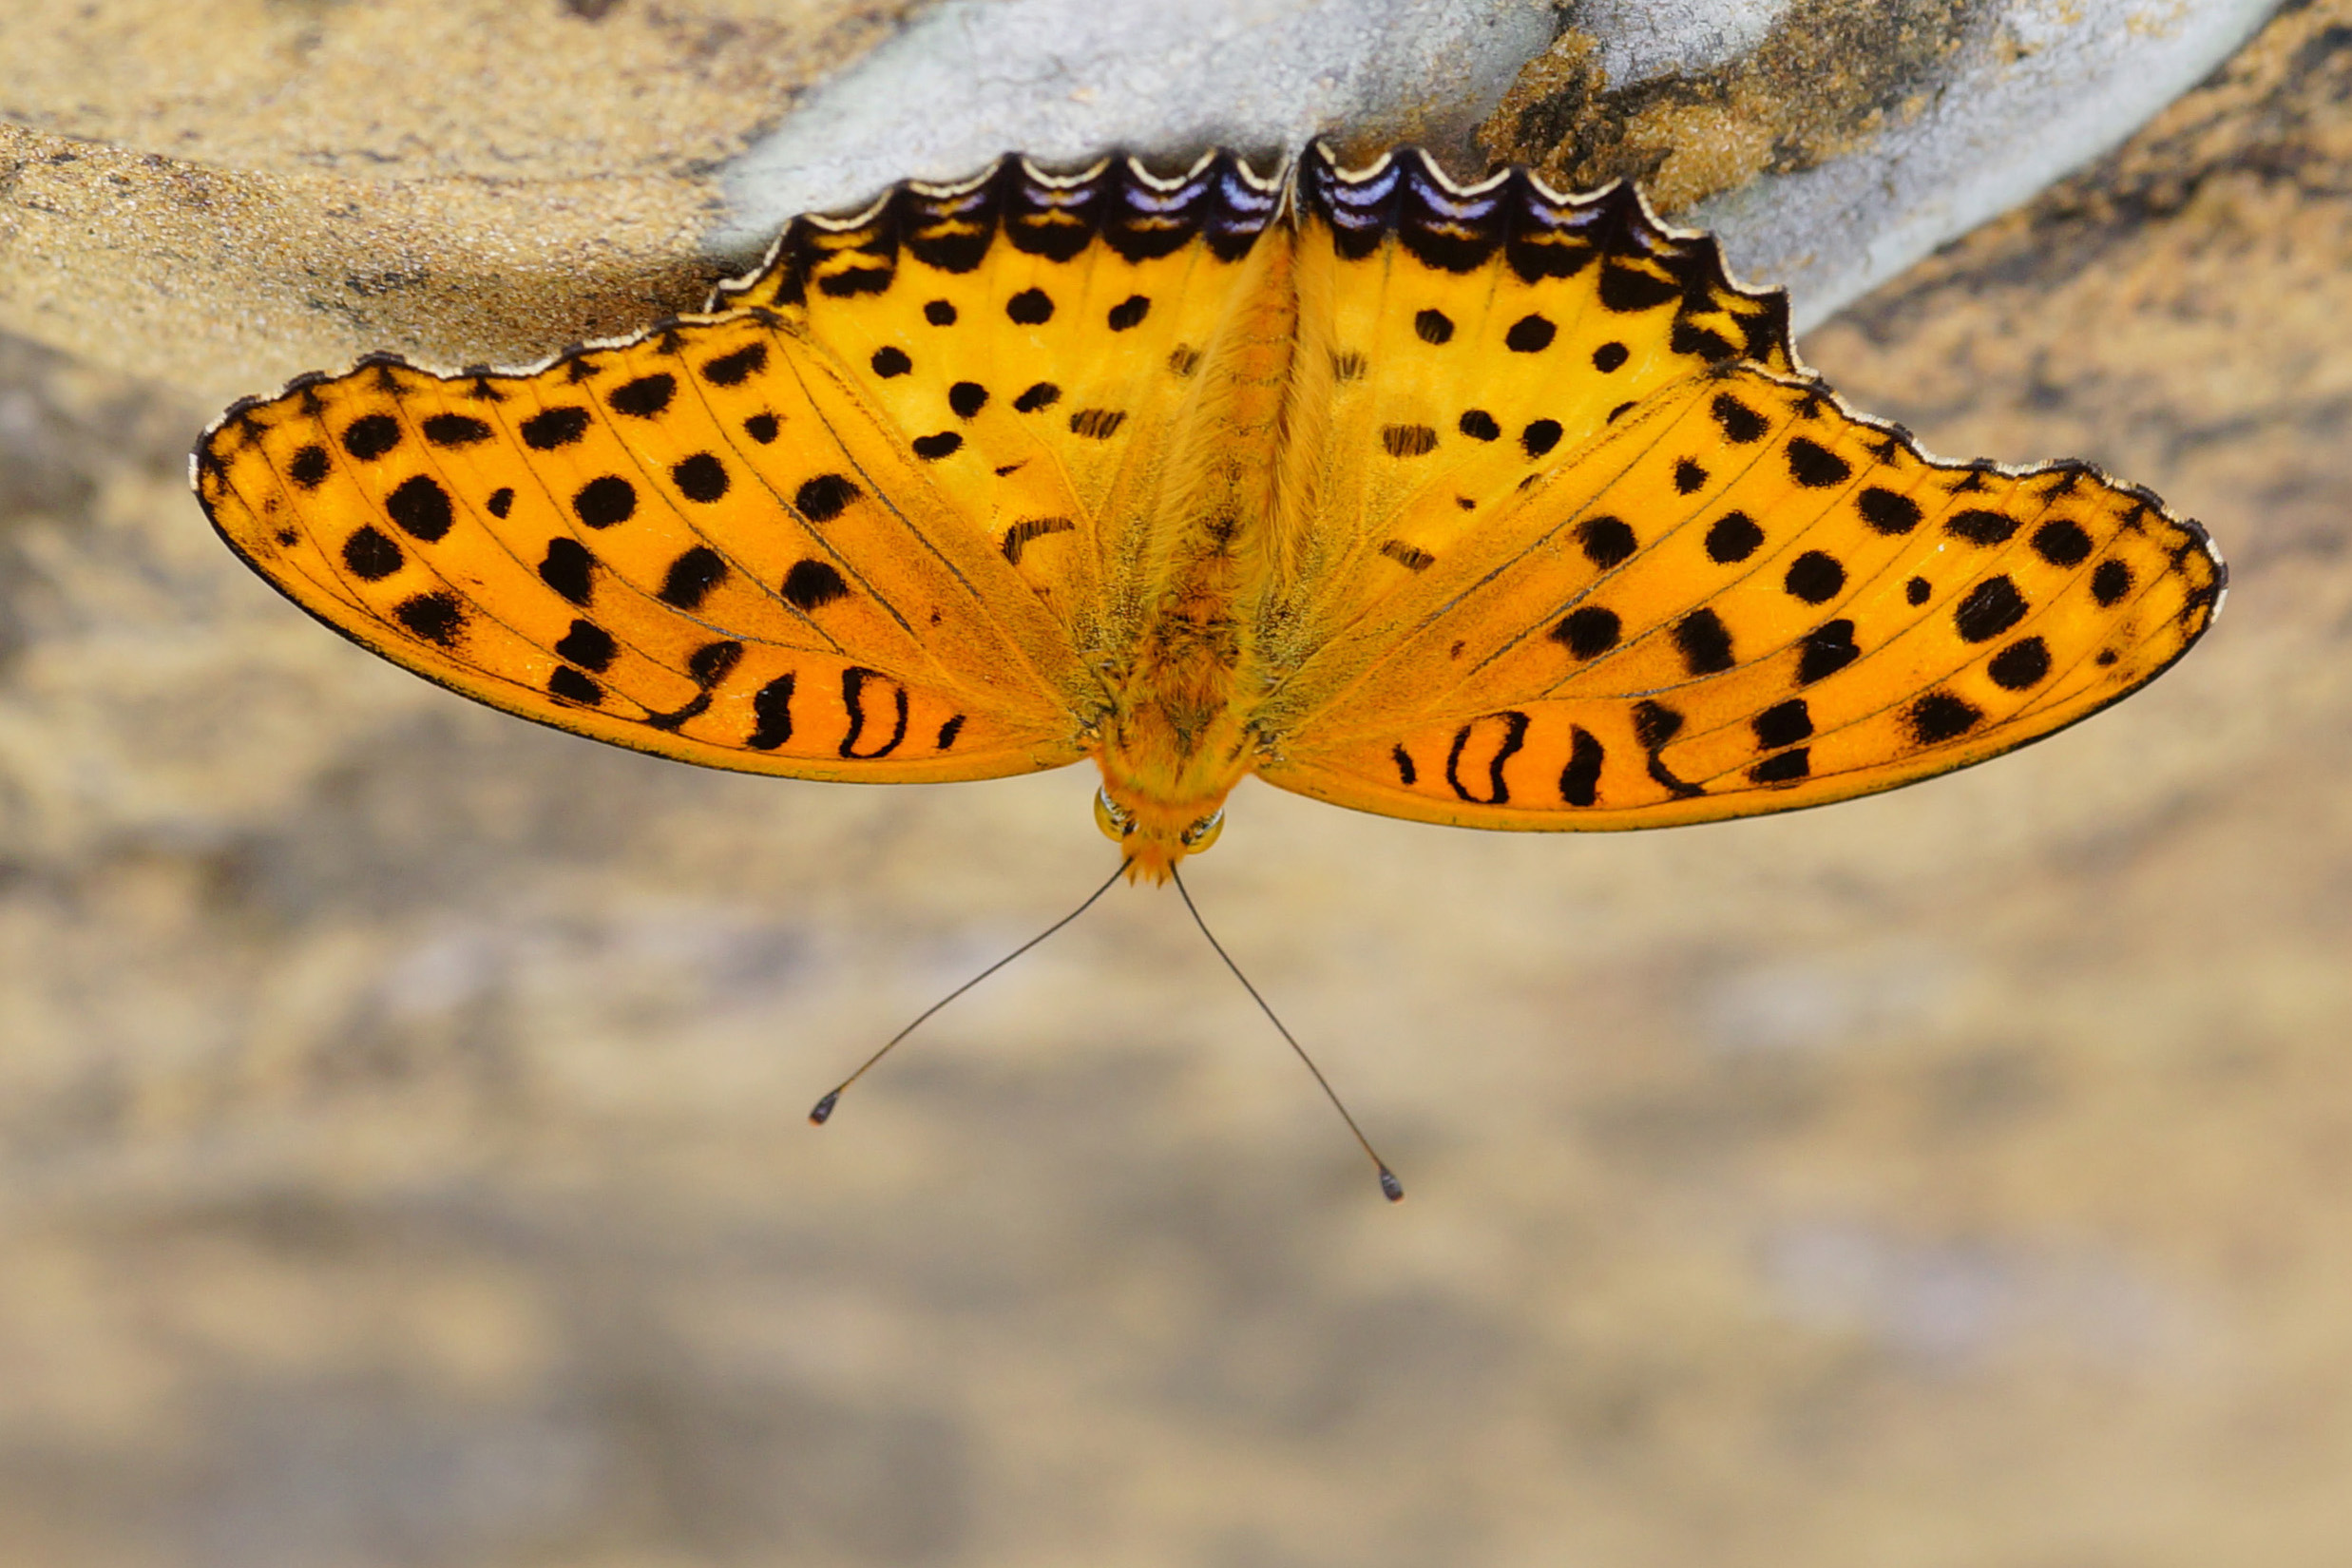Argyreus hyperbius: (171, 136, 2256, 1216)
butterfly: (173, 138, 2257, 1218)
